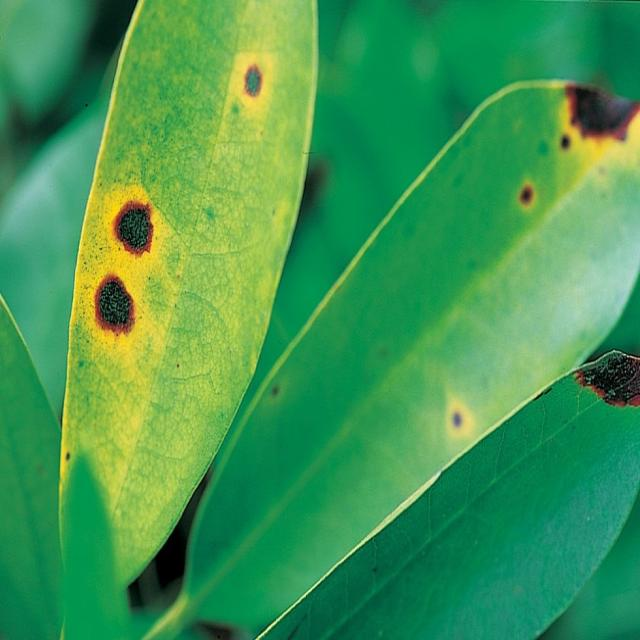Tar_Spot: (426, 76, 640, 478), (83, 65, 172, 382), (217, 35, 280, 118)
